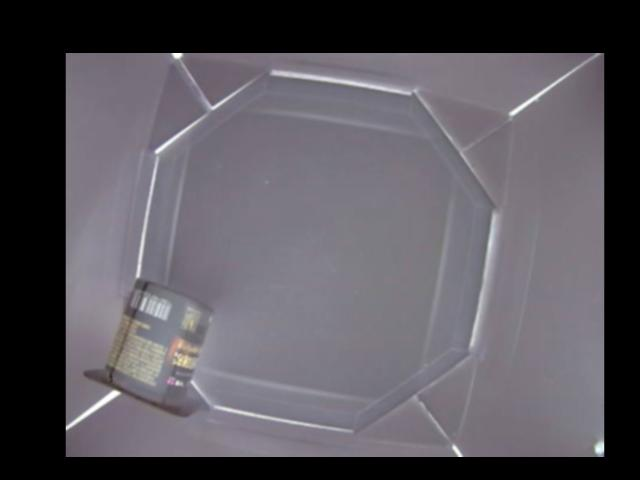Cup: (84, 274, 218, 417)
